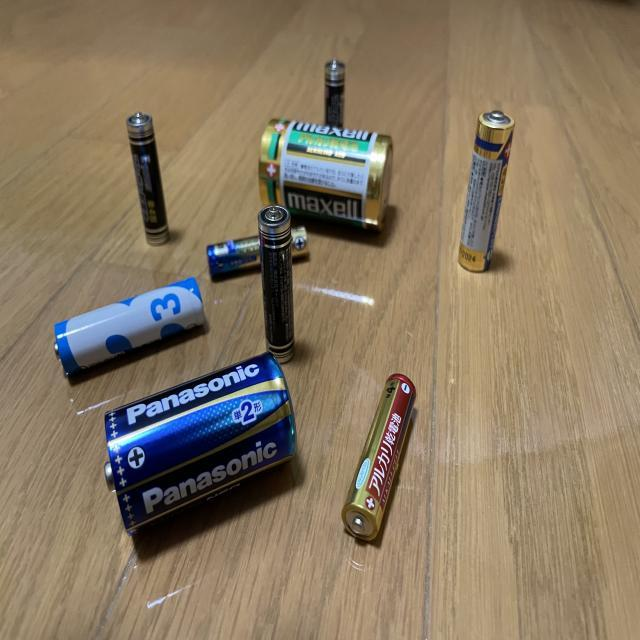hazardous waste: (98, 352, 301, 544), (254, 112, 401, 238), (49, 273, 212, 382), (340, 368, 420, 550), (452, 95, 525, 282), (250, 198, 302, 368), (204, 211, 318, 281), (122, 105, 177, 249), (313, 50, 350, 136)
